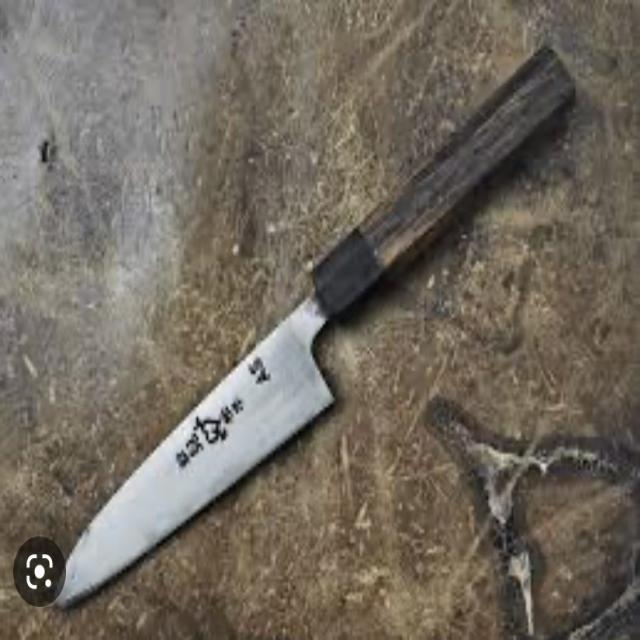Knife: (61, 30, 603, 612)
